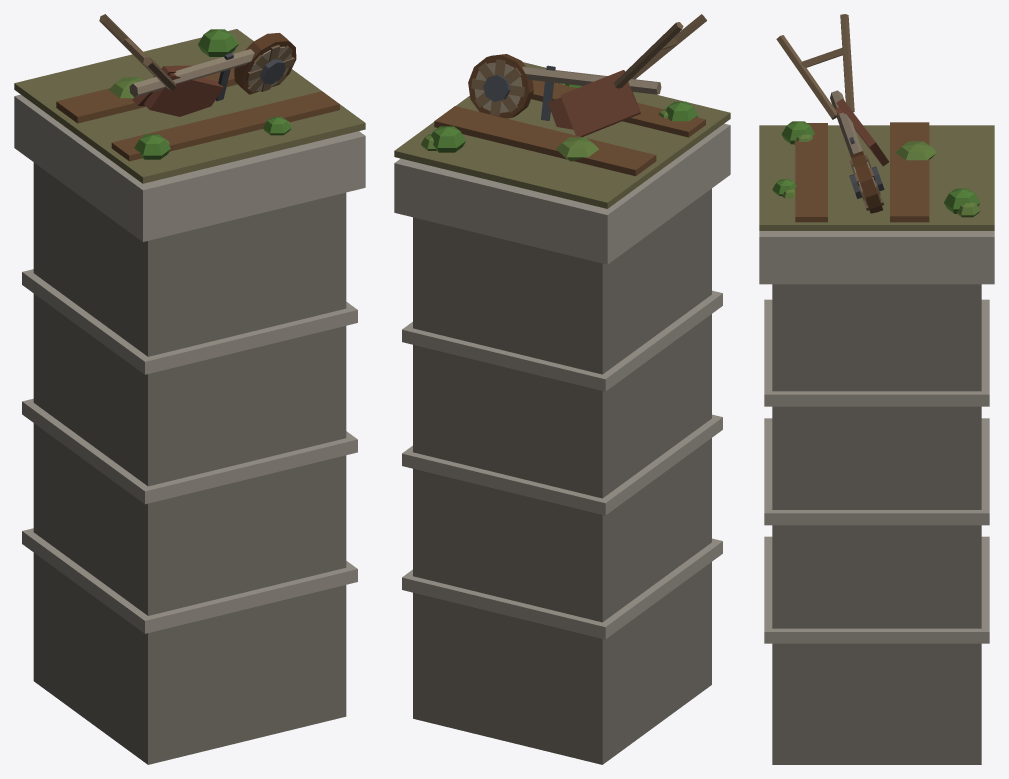
Rendered from decor_rusted_plough.glb.
3 views of the same model, side by side, from view 1: azimuth 30°, elevation 25°; view 2: azimuth 150°, elevation 25°; view 3: azimuth 270°, elevation 25° (orthographic). The views are drawn at different scales.
Visible parts, largest first — view 1: decor_rusted_plough; view 2: decor_rusted_plough; view 3: decor_rusted_plough.
Boxes of the visible parts, <box> form: decor_rusted_plough: <box>14,14,365,764</box>; decor_rusted_plough: <box>394,14,730,764</box>; decor_rusted_plough: <box>759,14,994,764</box>.
Bounding box in the file's own units: 1.8 × 5.58 × 1.8.
